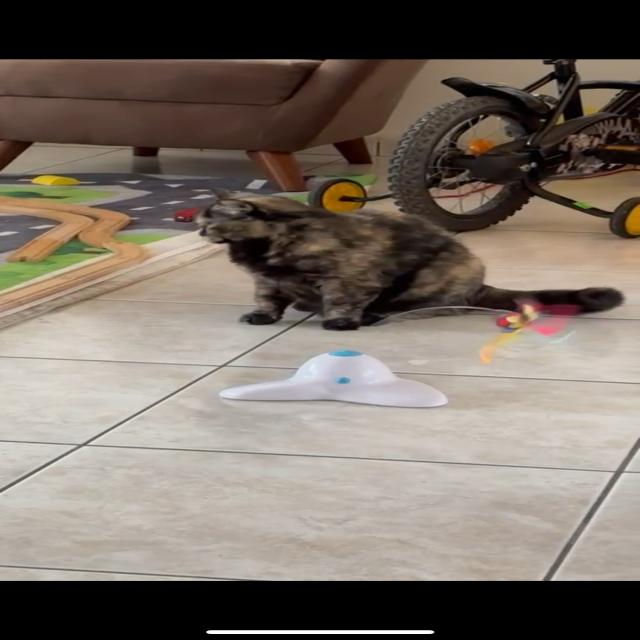authorized: (192, 186, 624, 332)
